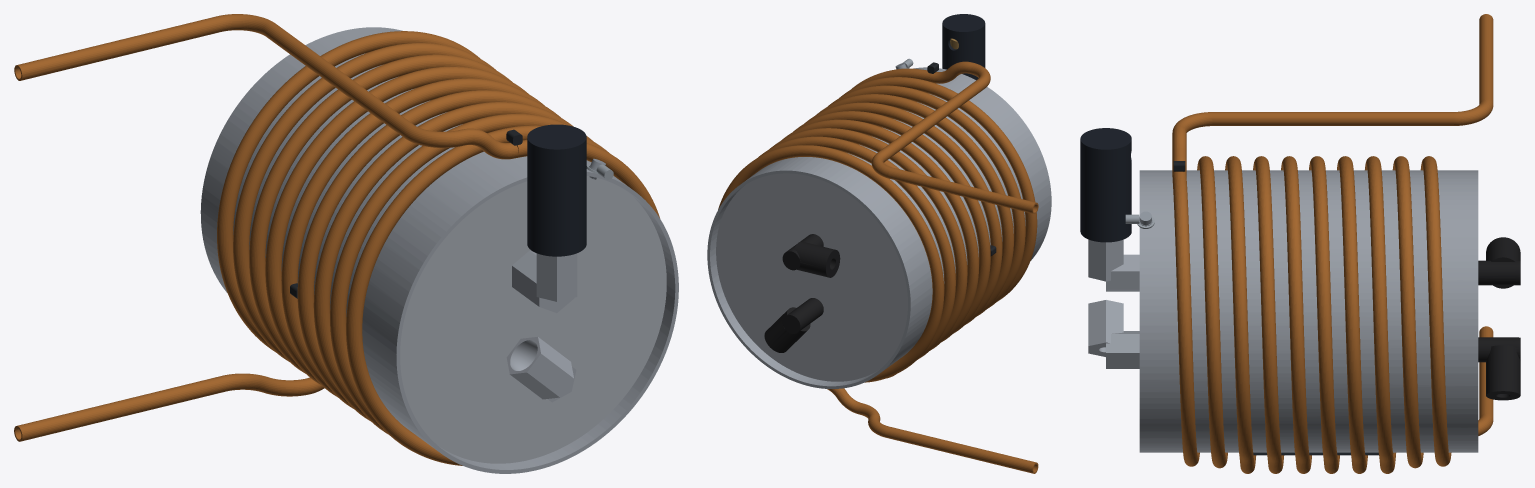
The model's file is instrumented-reference.glb.
3 views of the same model, side by side, from view 1: azimuth 30°, elevation 25°; view 2: azimuth 150°, elevation 25°; view 3: azimuth 270°, elevation 25° (orthographic). The views are drawn at different scales.
Parts seen in each view (by area): view 1: instrumented-reference saved shape; view 2: instrumented-reference saved shape; view 3: instrumented-reference saved shape.
Part boxes in pixels (x1,y1,x2,y2): instrumented-reference saved shape: [14, 14, 678, 473]; instrumented-reference saved shape: [707, 14, 1051, 473]; instrumented-reference saved shape: [1080, 14, 1520, 473].
Bounding box in the file's own units: 213 × 166 × 198.
